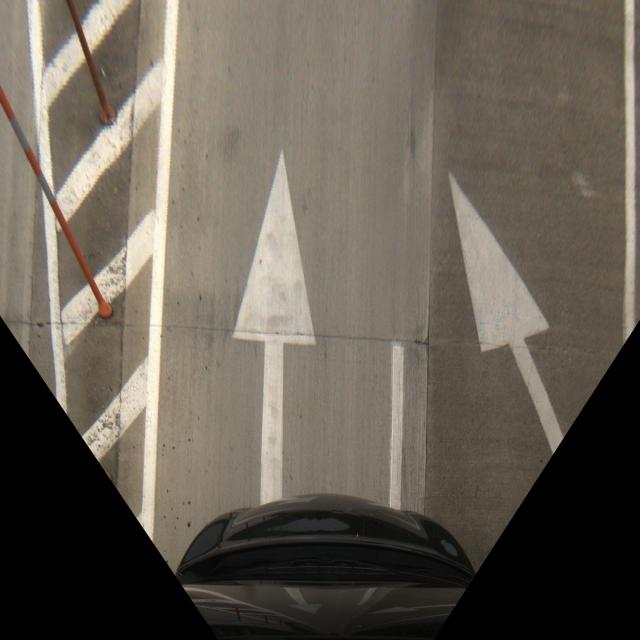forward: (159, 114, 403, 490)
